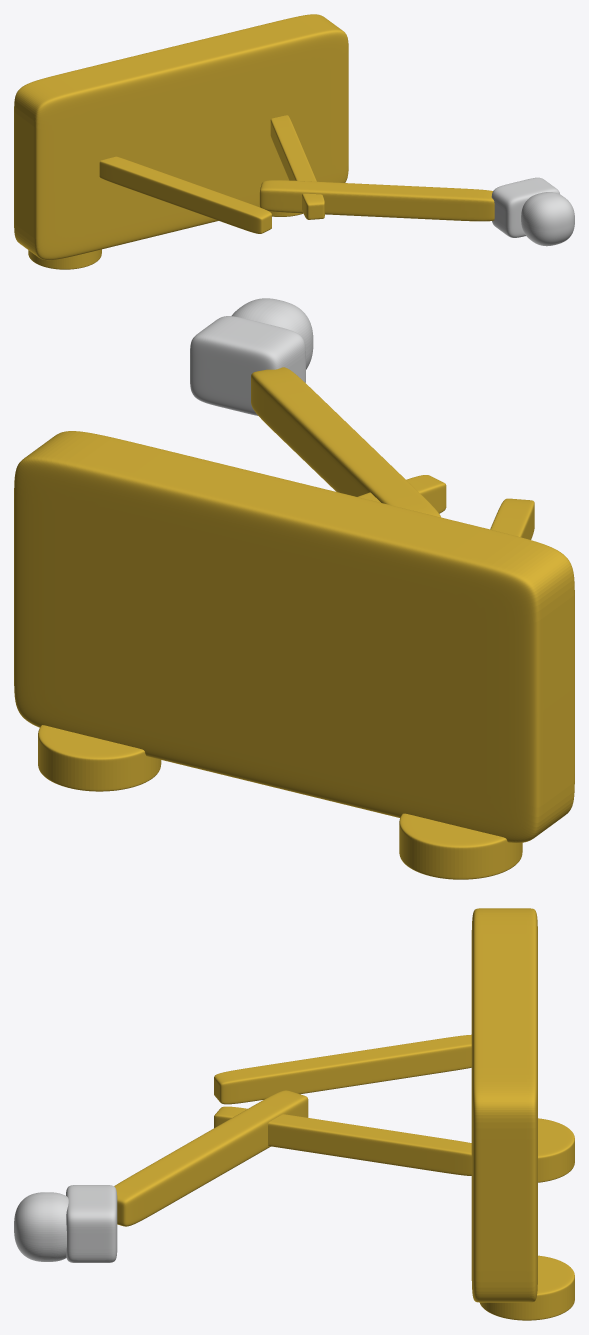
File: medieval_catapult_sq.glb
3 renders of one model, top to bottom at view 1: azimuth 30°, elevation 25°; view 2: azimuth 150°, elevation 25°; view 3: azimuth 270°, elevation 25°, orthographic. The views are drawn at different scales.
Visible parts, largest first — view 1: superquadric_0, superquadric_5, superquadric_3, superquadric_7, superquadric_4, superquadric_6, superquadric_1; view 2: superquadric_0, superquadric_5, superquadric_6, superquadric_1, superquadric_2, superquadric_7, superquadric_3, superquadric_4; view 3: superquadric_0, superquadric_3, superquadric_5, superquadric_4, superquadric_6, superquadric_7, superquadric_2, superquadric_1.
Boxes of the visible parts, x1,y1,x2,y2 form: superquadric_0: (14,14,348,260); superquadric_5: (259,180,494,221); superquadric_3: (99,156,271,233); superquadric_7: (521,192,574,246); superquadric_4: (270,115,324,219); superquadric_6: (491,177,560,237); superquadric_1: (28,249,101,269); superquadric_0: (14,431,574,842); superquadric_5: (251,367,441,517); superquadric_6: (190,316,305,415); superquadric_1: (399,813,522,879); superquadric_2: (38,725,161,791); superquadric_7: (231,298,313,369); superquadric_3: (490,498,534,539); superquadric_4: (358,475,446,513); superquadric_0: (471,908,537,1302); superquadric_3: (214,1034,471,1104); superquadric_5: (114,1090,308,1226); superquadric_4: (214,1106,471,1175); superquadric_6: (66,1185,117,1262); superquadric_7: (14,1192,68,1261); superquadric_2: (480,1255,574,1320); superquadric_1: (538,1118,574,1182).
Size of the model in its own units: 0.9934 by 0.4605 by 1.
